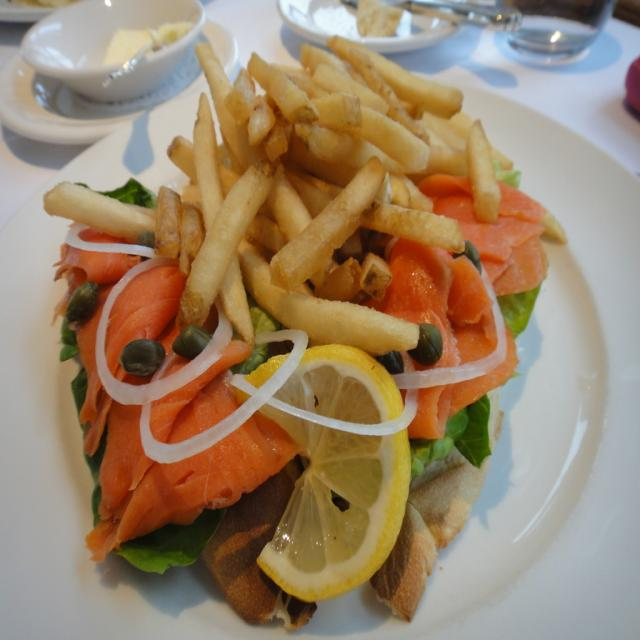Lemon: (236, 341, 411, 603)
